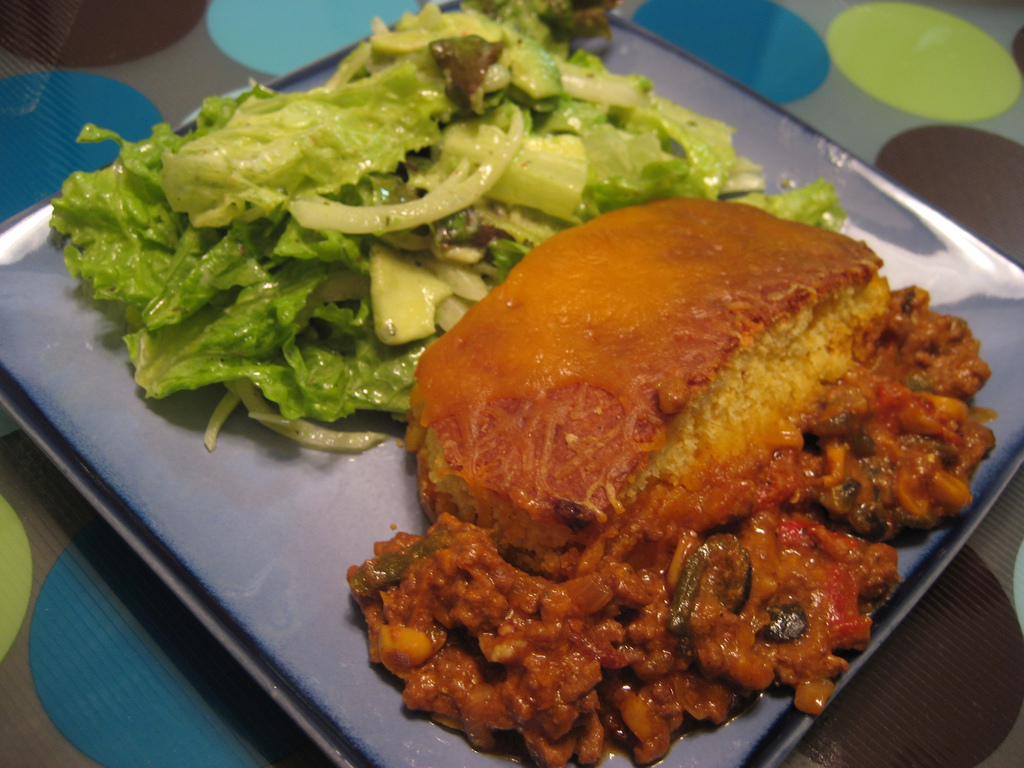chopped lettuce: (135, 119, 496, 346)
slice of bread: (443, 250, 807, 507)
